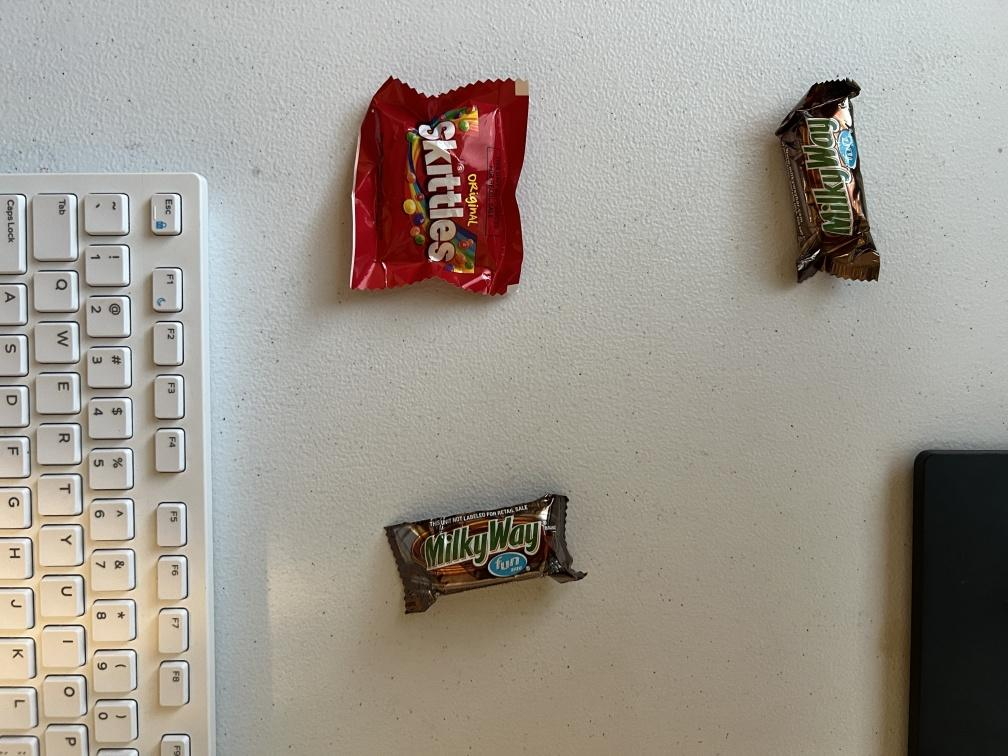milky_way: (770, 72, 906, 305), (369, 489, 598, 619)
skittles: (339, 67, 556, 319)
